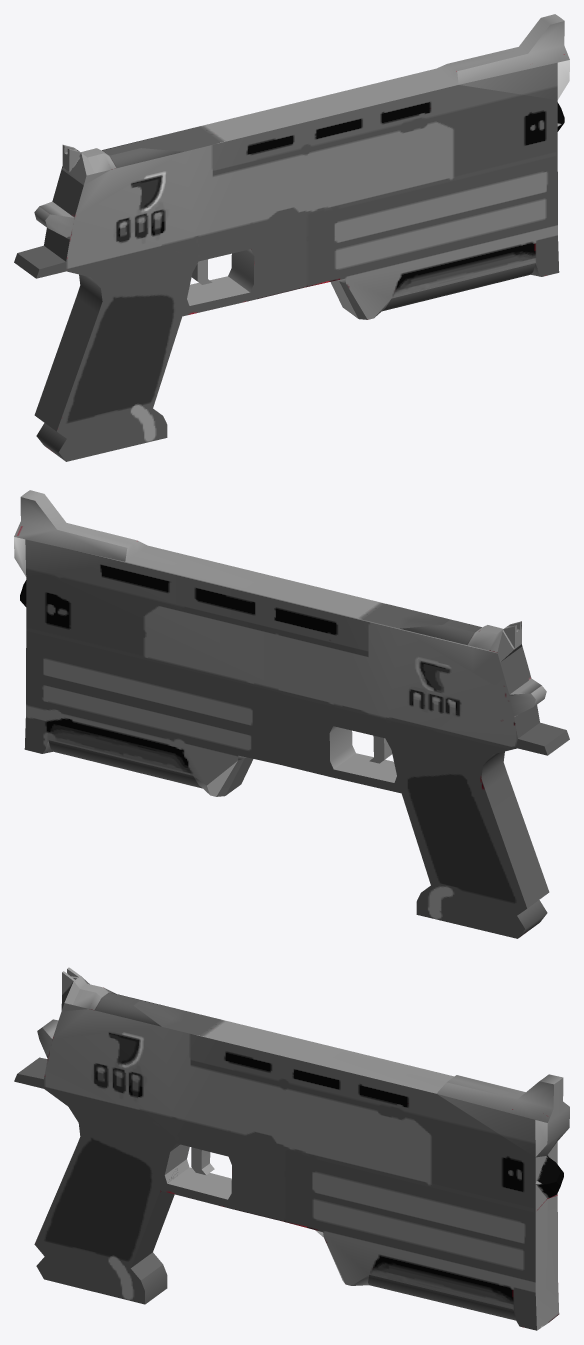
The model's file is low-polly_fallout_10mm_pistol.glb.
3 renders of one model, top to bottom at view 1: azimuth 30°, elevation 25°; view 2: azimuth 150°, elevation 25°; view 3: azimuth 330°, elevation 25°, orthographic.
Parts seen in each view (by area): view 1: pCube1; view 2: pCube1; view 3: pCube1.
Part boxes in pixels (x1,y1,x2,y2): pCube1: (14,14,569,461); pCube1: (14,490,569,938); pCube1: (14,967,569,1330).
Size of the model in its own units: 0.1126 by 0.0631 by 0.00809.
1 material, 1 textured.
